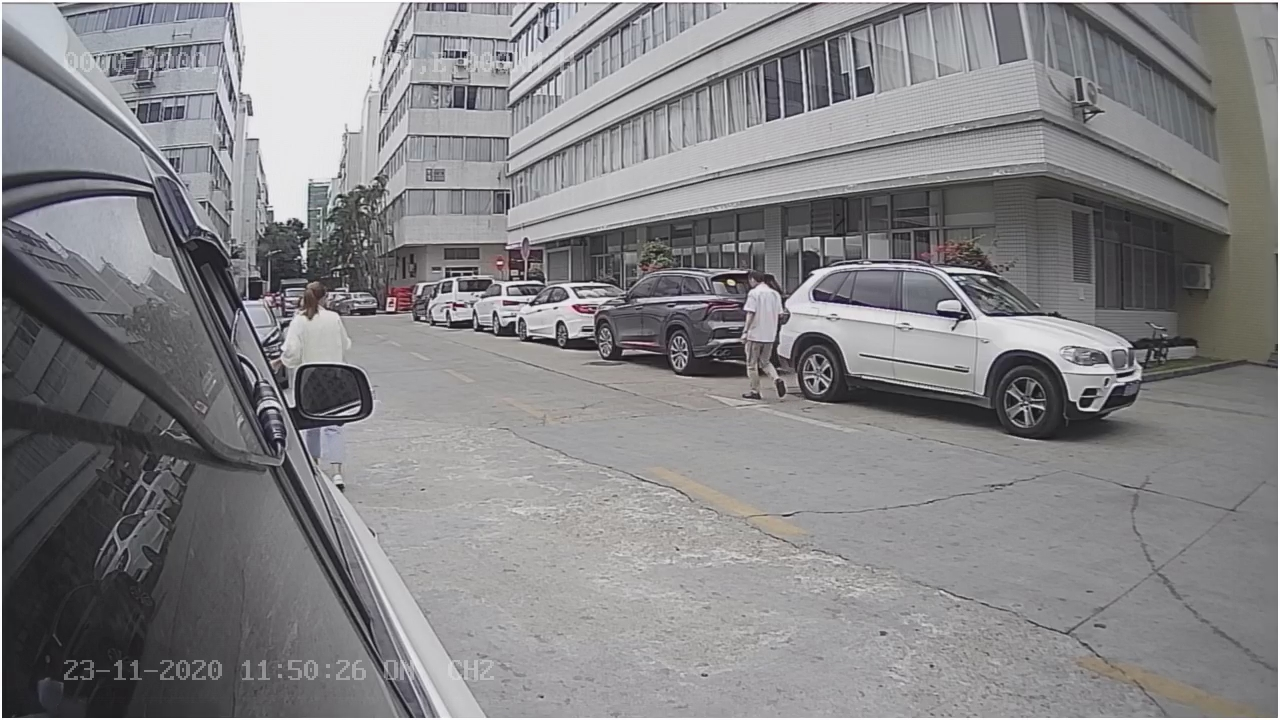person: (282, 265, 356, 364)
